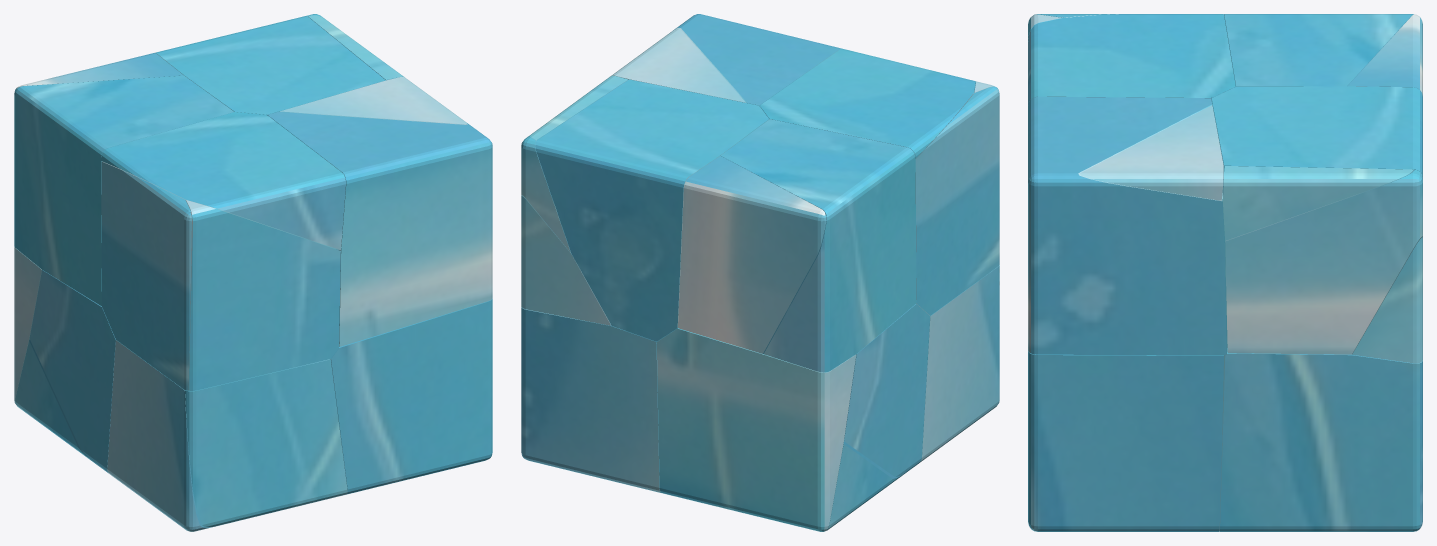
File: IceCubeShards.fbx
3 renders of one model, left to right at view 1: azimuth 30°, elevation 25°; view 2: azimuth 150°, elevation 25°; view 3: azimuth 270°, elevation 25°, orthographic. The views are drawn at different scales.
Parts seen in each view (by area): view 1: Cube_cell, Cube_cell.016, Cube_cell.002, Cube_cell.015, Cube_cell.014, Cube_cell.017, Cube_cell.004, Cube_cell.008, Cube_cell.012, Cube_cell.011, Cube_cell.009, Cube_cell.018 (+3 smaller); view 2: Cube_cell.008, Cube_cell.003, Cube_cell.002, Cube_cell.006, Cube_cell.007, Cube_cell.004, Cube_cell.017, Cube_cell.011, Cube_cell.012, Cube_cell, Cube_cell.001, Cube_cell.009 (+3 smaller); view 3: Cube_cell, Cube_cell.006, Cube_cell.016, Cube_cell.010, Cube_cell.008, Cube_cell.017, Cube_cell.002, Cube_cell.013, Cube_cell.009, Cube_cell.001, Cube_cell.007.
Boxes of the visible parts, <box> form: Cube_cell: <box>267,111,492,346</box>; Cube_cell.016: <box>330,299,492,494</box>; Cube_cell.002: <box>14,75,233,306</box>; Cube_cell.015: <box>185,200,340,390</box>; Cube_cell.014: <box>185,359,347,526</box>; Cube_cell.017: <box>101,112,345,250</box>; Cube_cell.004: <box>101,161,191,390</box>; Cube_cell.008: <box>155,16,385,114</box>; Cube_cell.012: <box>107,340,218,531</box>; Cube_cell.011: <box>29,270,115,473</box>; Cube_cell.009: <box>280,77,467,124</box>; Cube_cell.018: <box>15,339,99,466</box>; Cube_cell.008: <box>535,79,768,341</box>; Cube_cell.003: <box>656,328,856,531</box>; Cube_cell.002: <box>720,119,916,372</box>; Cube_cell.006: <box>521,307,677,492</box>; Cube_cell.007: <box>678,156,826,353</box>; Cube_cell.004: <box>915,86,999,315</box>; Cube_cell.017: <box>759,48,975,158</box>; Cube_cell.011: <box>844,304,930,477</box>; Cube_cell.012: <box>919,266,999,462</box>; Cube_cell: <box>671,14,841,105</box>; Cube_cell.001: <box>521,196,610,325</box>; Cube_cell.009: <box>610,28,745,102</box>; Cube_cell: <box>1028,96,1227,355</box>; Cube_cell.006: <box>1219,345,1422,531</box>; Cube_cell.016: <box>1028,351,1223,531</box>; Cube_cell.010: <box>1225,170,1422,354</box>; Cube_cell.008: <box>1211,86,1422,180</box>; Cube_cell.017: <box>1028,14,1235,104</box>; Cube_cell.002: <box>1224,14,1413,86</box>; Cube_cell.013: <box>1223,166,1413,240</box>; Cube_cell.009: <box>1080,105,1223,200</box>; Cube_cell.001: <box>1352,237,1422,363</box>; Cube_cell.007: <box>1347,14,1422,96</box>.
Bounding box in the file's own units: 2 × 2 × 2.
1 material, 1 textured.
